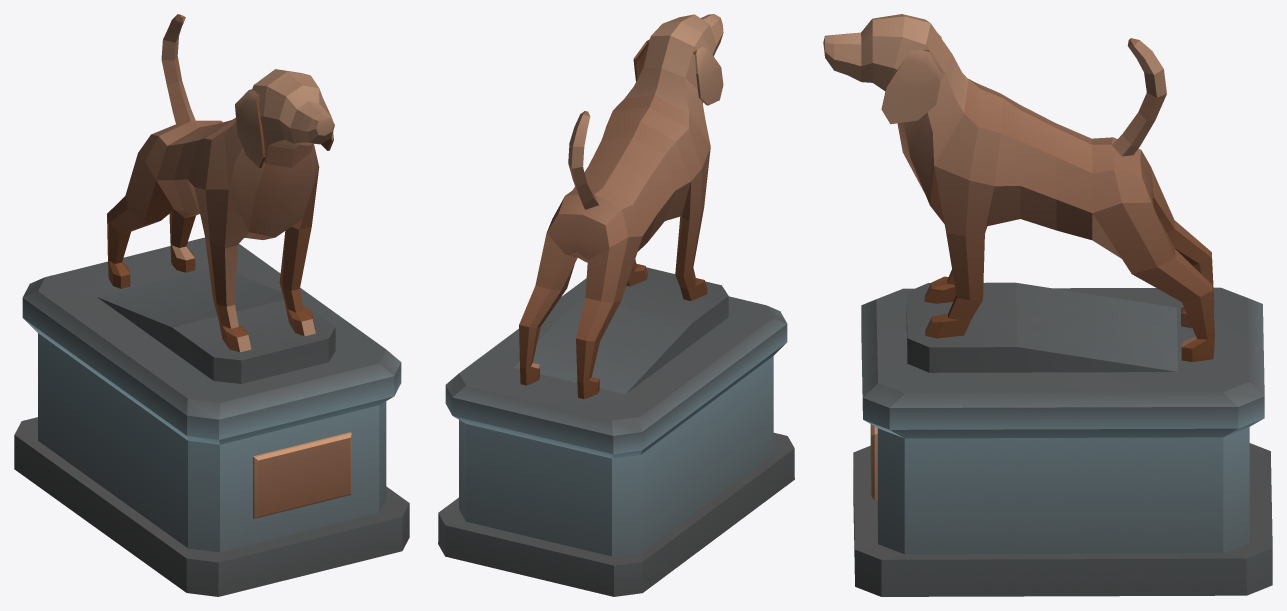
Rendered from Environment_AnimalStatue_Dog.fbx.
The picture shows the model from 3 angles, left to right: view 1: azimuth 30°, elevation 25°; view 2: azimuth 150°, elevation 25°; view 3: azimuth 270°, elevation 25°; orthographic projection. The views are drawn at different scales.
Visible parts, largest first — view 1: Environment_AnimalStatueStand.001, Environment_AnimalStatueStand_Dog.001, Environment_AnimalStatueStand_Raiser.001, Environment_AnimalStatueStand_Plaque.001; view 2: Environment_AnimalStatueStand.001, Environment_AnimalStatueStand_Dog.001, Environment_AnimalStatueStand_Raiser.001; view 3: Environment_AnimalStatueStand.001, Environment_AnimalStatueStand_Dog.001, Environment_AnimalStatueStand_Raiser.001.
Part boxes in pixels (x1,y1,x2,y2): Environment_AnimalStatueStand.001: (14,237,409,596); Environment_AnimalStatueStand_Dog.001: (107,14,334,352); Environment_AnimalStatueStand_Raiser.001: (97,269,335,383); Environment_AnimalStatueStand_Plaque.001: (253,432,351,518); Environment_AnimalStatueStand.001: (438,278,794,596); Environment_AnimalStatueStand_Dog.001: (519,14,723,399); Environment_AnimalStatueStand_Raiser.001: (513,267,728,394); Environment_AnimalStatueStand.001: (853,287,1272,596); Environment_AnimalStatueStand_Dog.001: (823,14,1214,361); Environment_AnimalStatueStand_Raiser.001: (906,282,1177,372).
Size of the model in its own units: 227 by 465 by 363.
